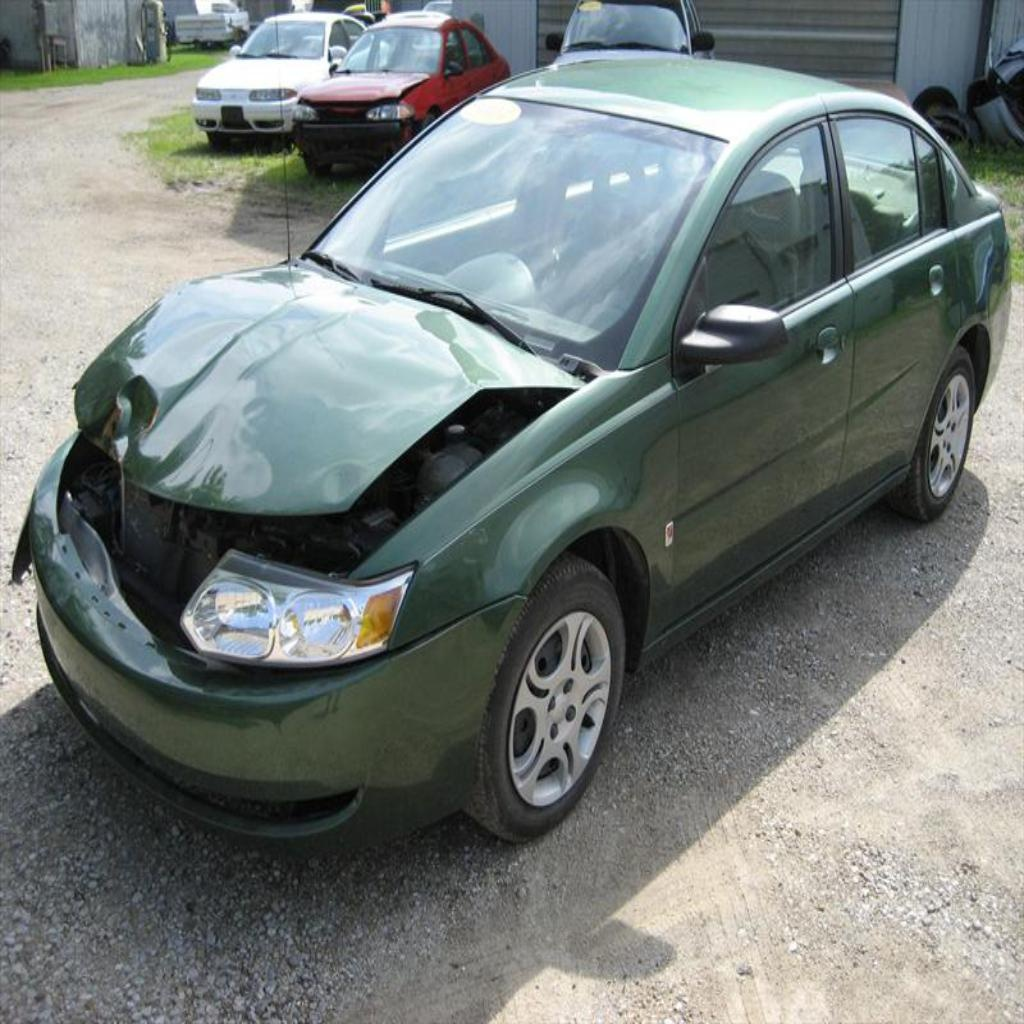Dent: (63, 268, 581, 606)
